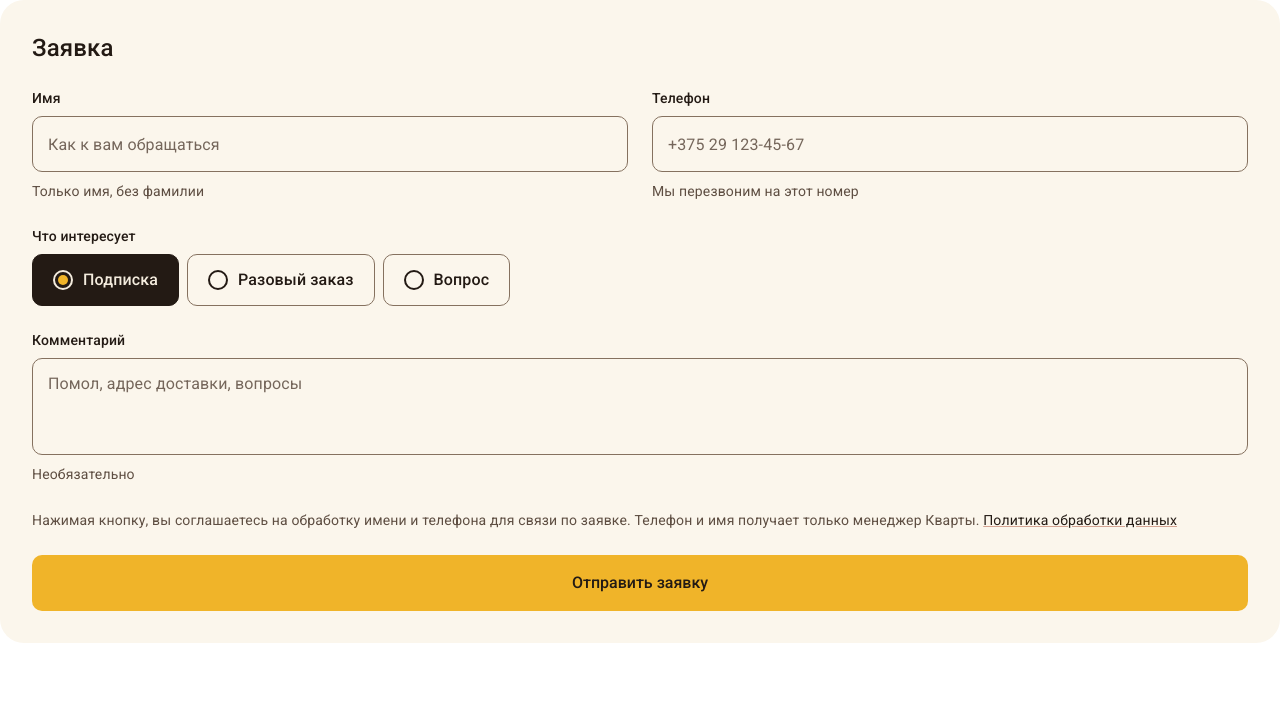
Test: LeadForm without a Telegram username › never renders a foreign lead id from a duplicate answer
Type "Анна" into the field labelled "Имя". click: (330, 144)
box: [32,116,628,172]
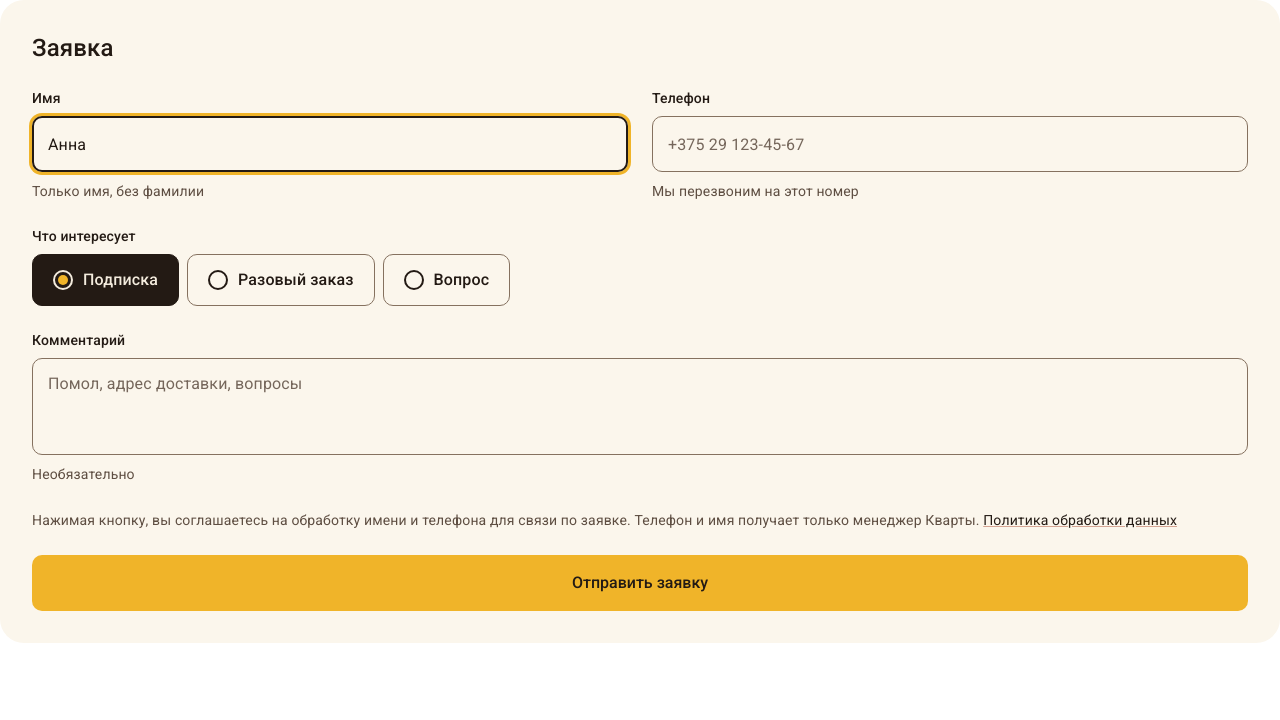
Type "80291234567" into the field labelled "Телефон". click: (950, 144)
box: [652,116,1248,172]
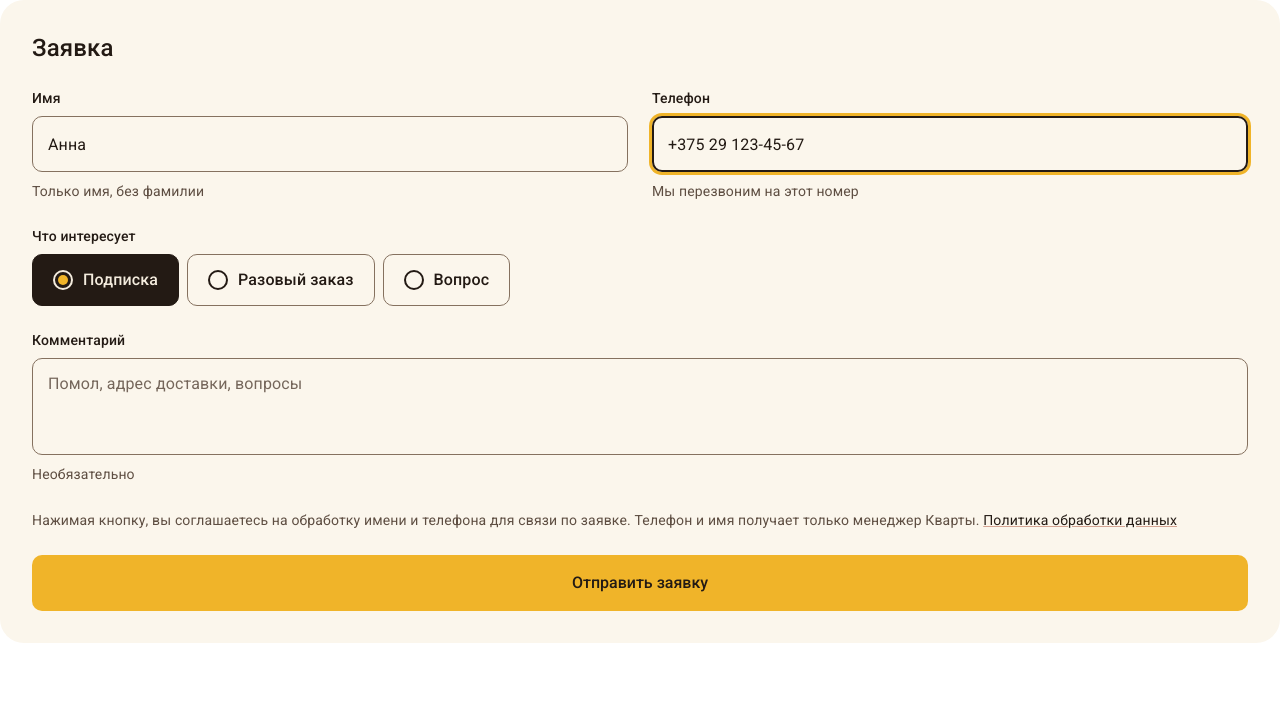
Click the button "Отправить заявку". click: (640, 583)
box: [32,555,1248,611]
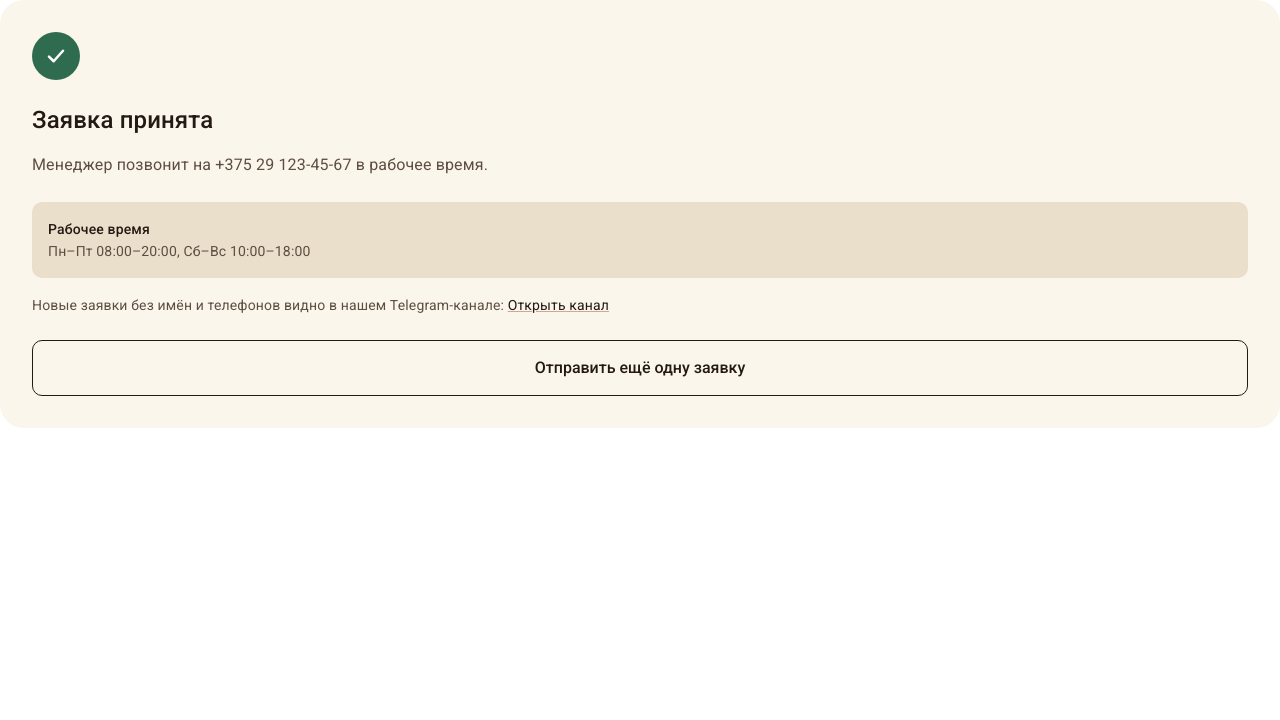
Now the heading "Заявка принята" is shown, box [32,106,213,134]
